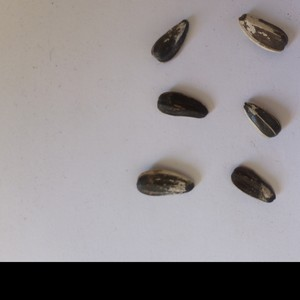girasol: (235, 11, 288, 54), (229, 163, 277, 206), (148, 15, 190, 64), (153, 88, 209, 123), (135, 167, 197, 198), (240, 99, 282, 139)
